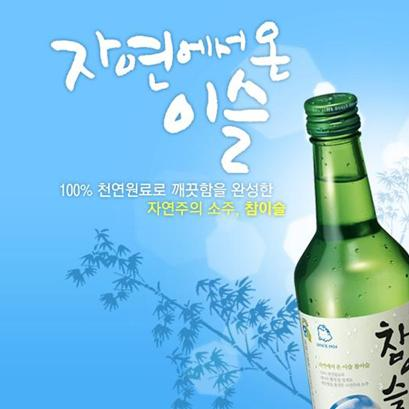soju: (290, 91, 408, 409)
